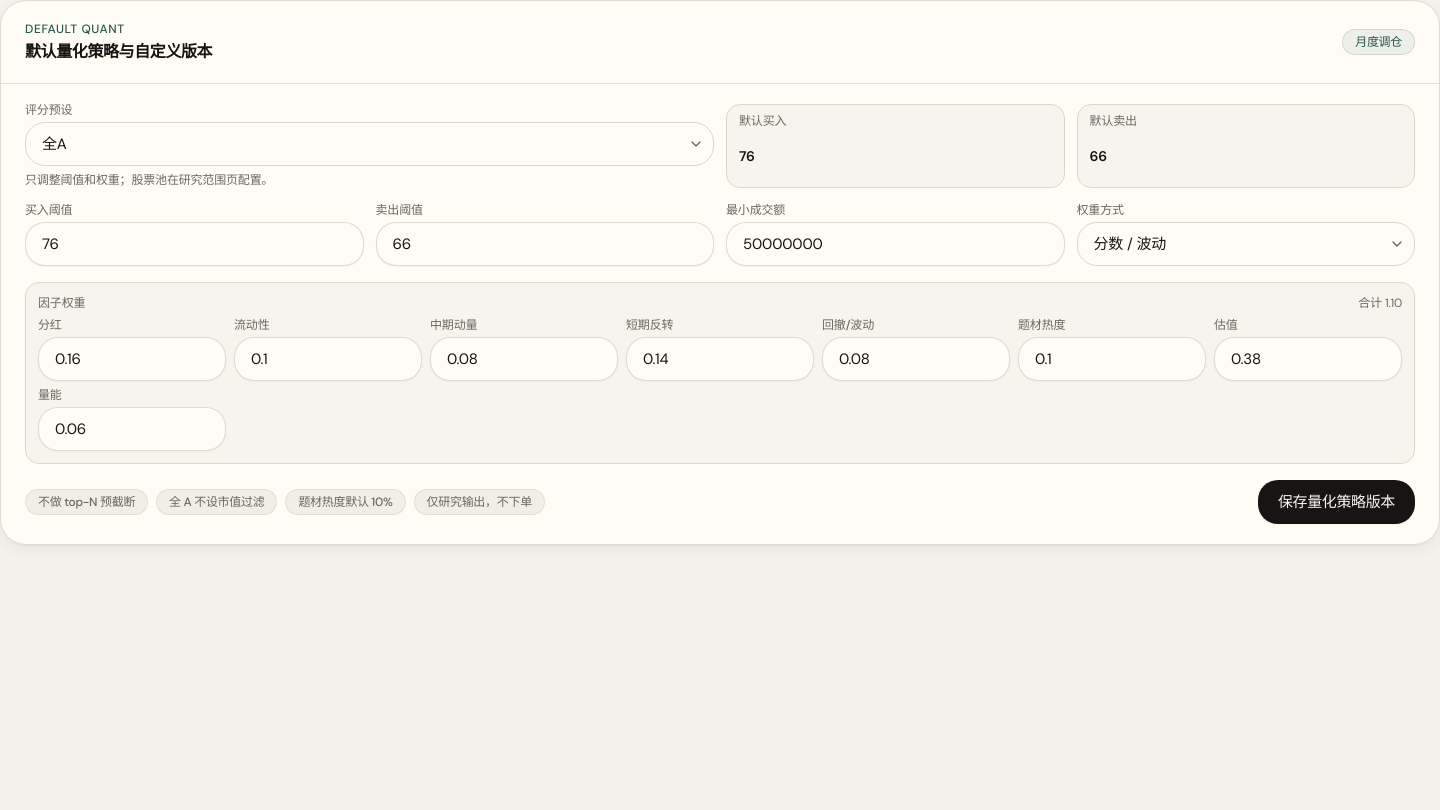
Test: quant customizer validates monthly rebalance buffer
Replace the text in the number field named "买入阈值" with "60" at (194, 244), box [25, 222, 364, 266]
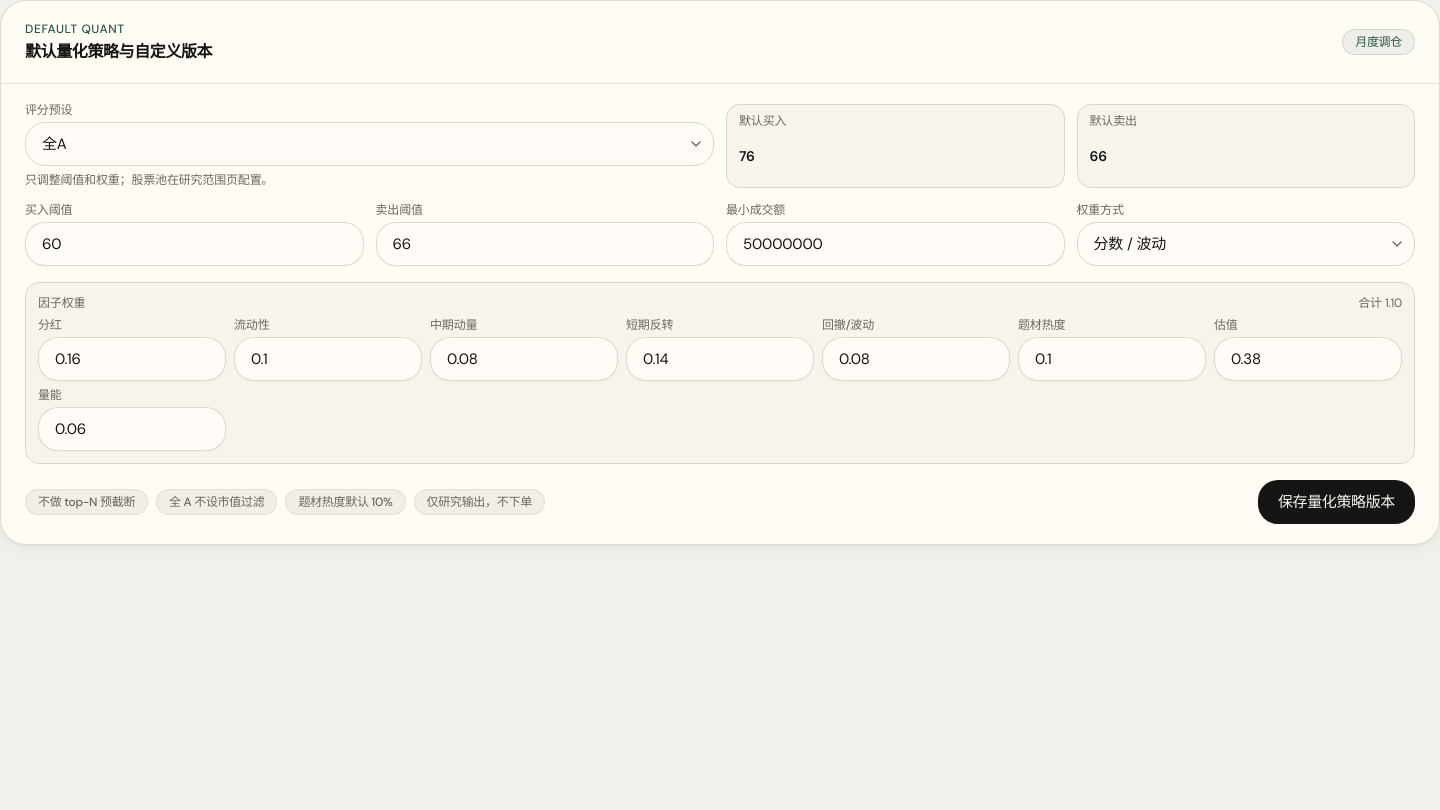
Replace the text in the number field named "卖出阈值" with "60" at (545, 244), box [376, 222, 714, 266]
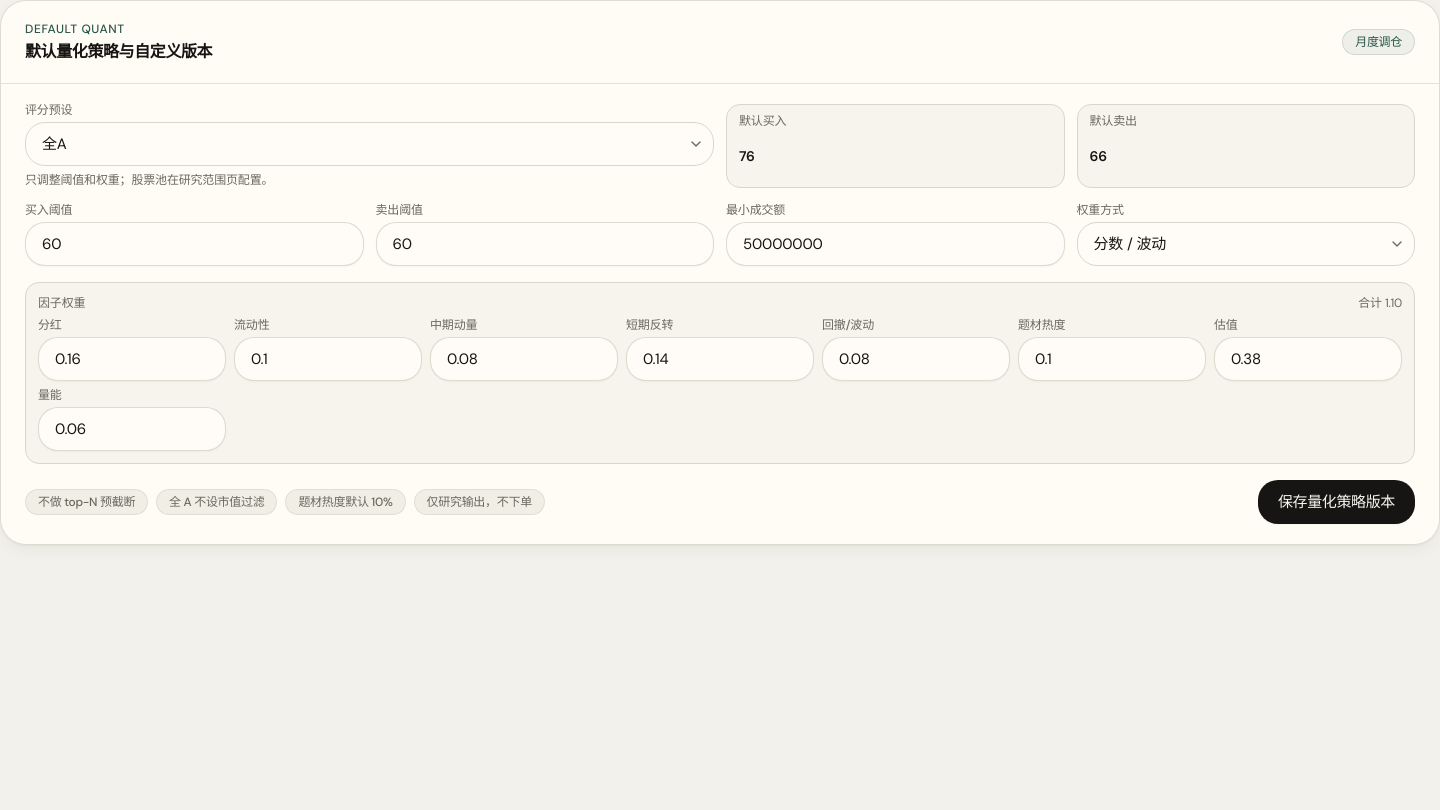
Click the button "保存量化策略版本" at (1336, 502), box [1258, 480, 1415, 524]
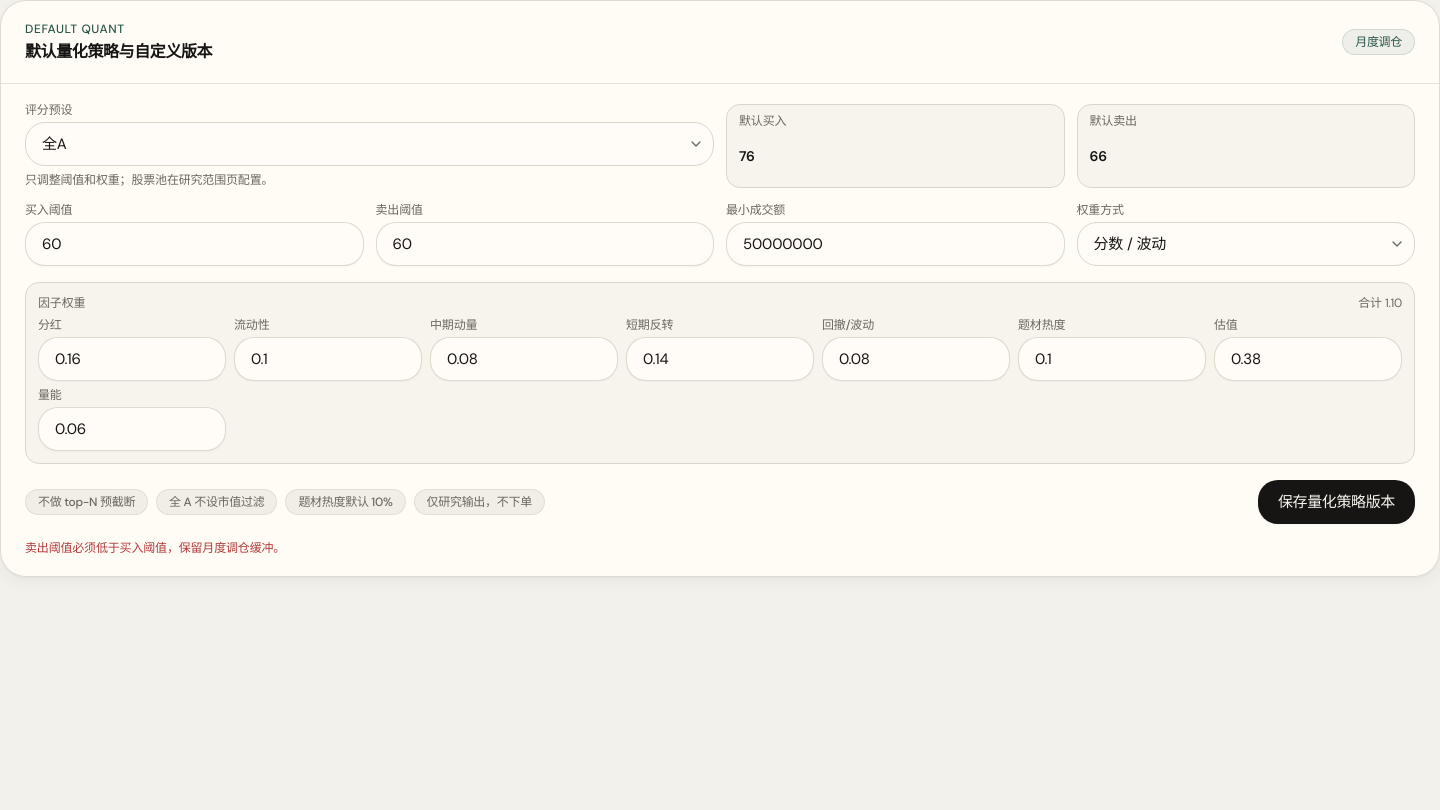
Expected: the message shows "卖出阈值必须低于买入阈值", [25, 540, 285, 556]
